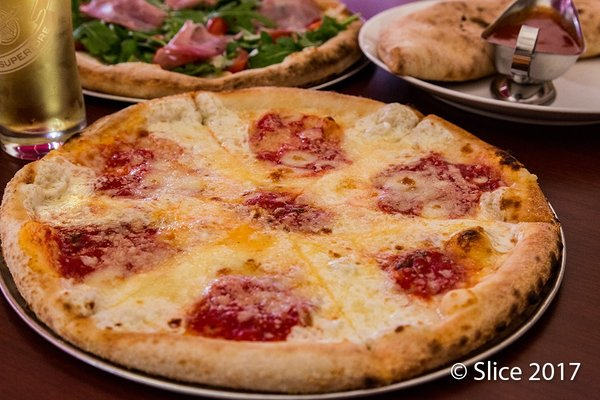pizza: (0, 0, 88, 160)
